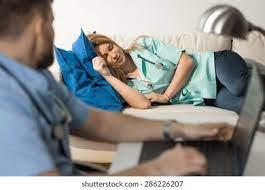sleep: (81, 25, 198, 109)
